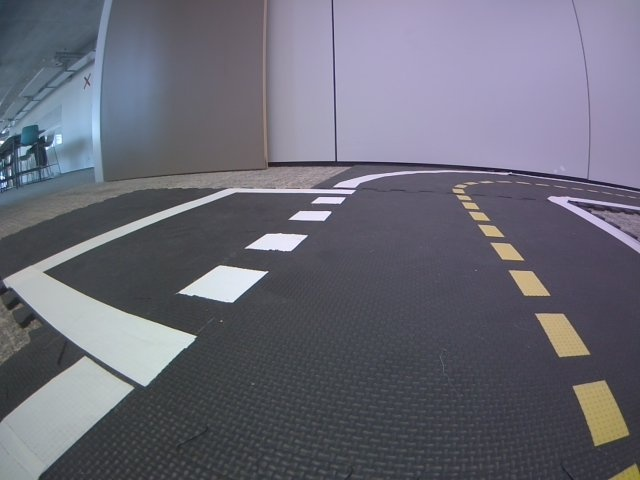freeSpot: (8, 187, 356, 389)
